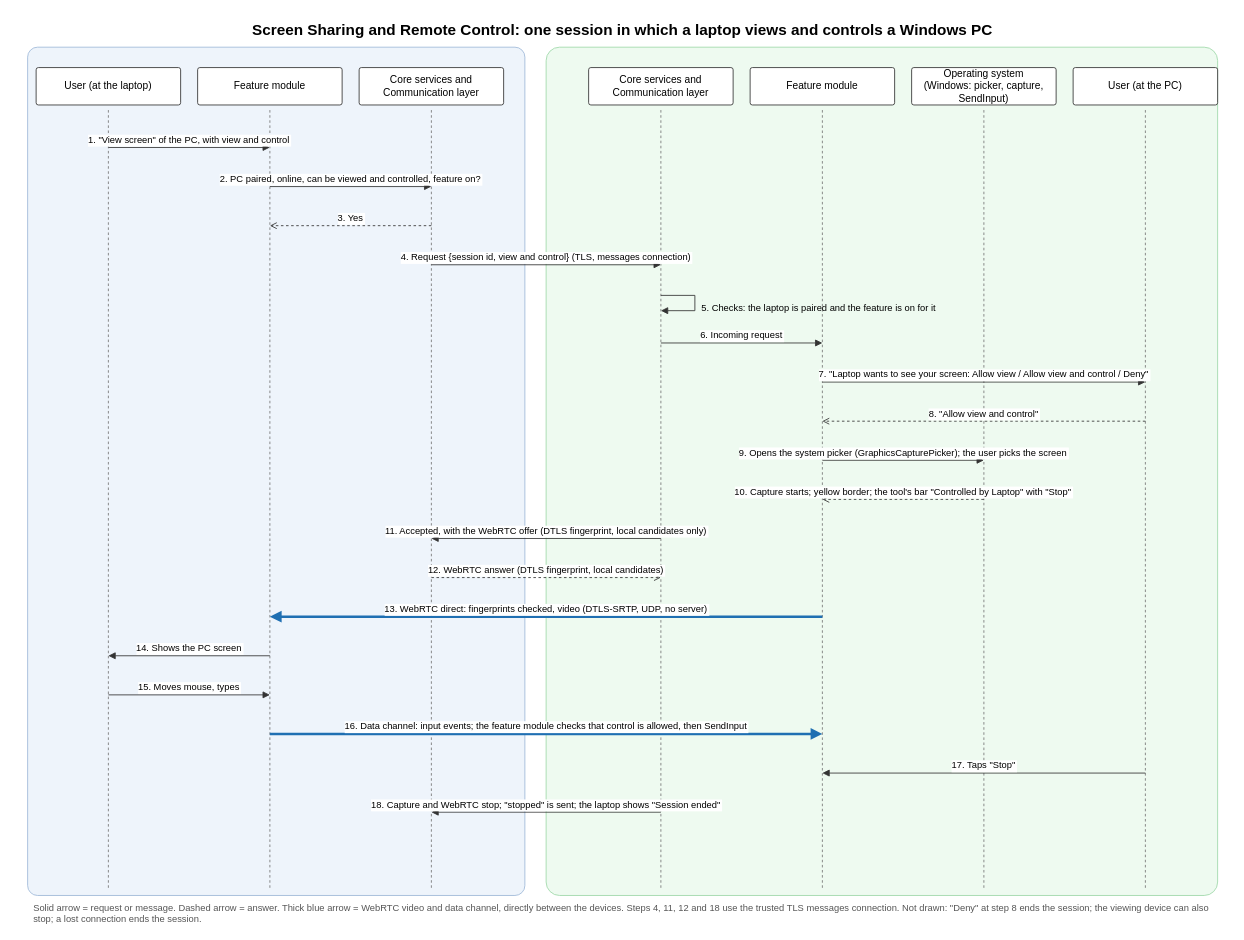
Some shapes in this 1244 by 940 pixel diagram are drawn without their labels. Here are the shapes that lost their labels. From the top down, the box of each, then its label:
(27, 46, 525, 895): Viewing device (laptop)
(545, 46, 1218, 895): Shared device (Windows PC)
